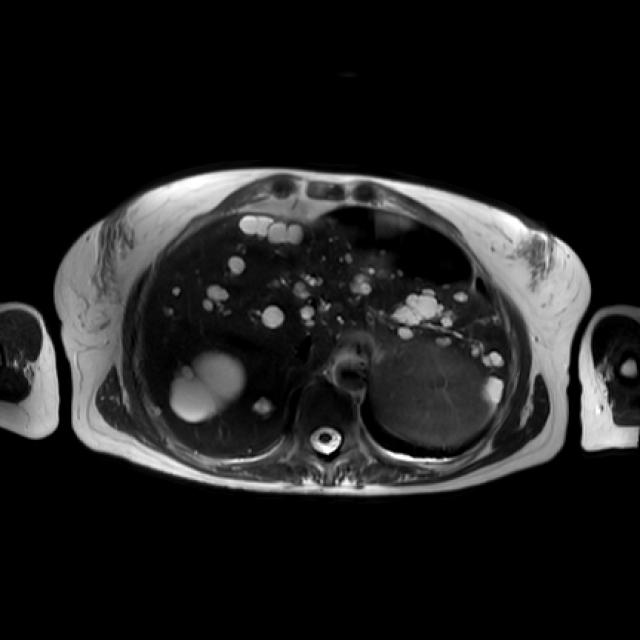sag: (257, 399, 272, 414)
